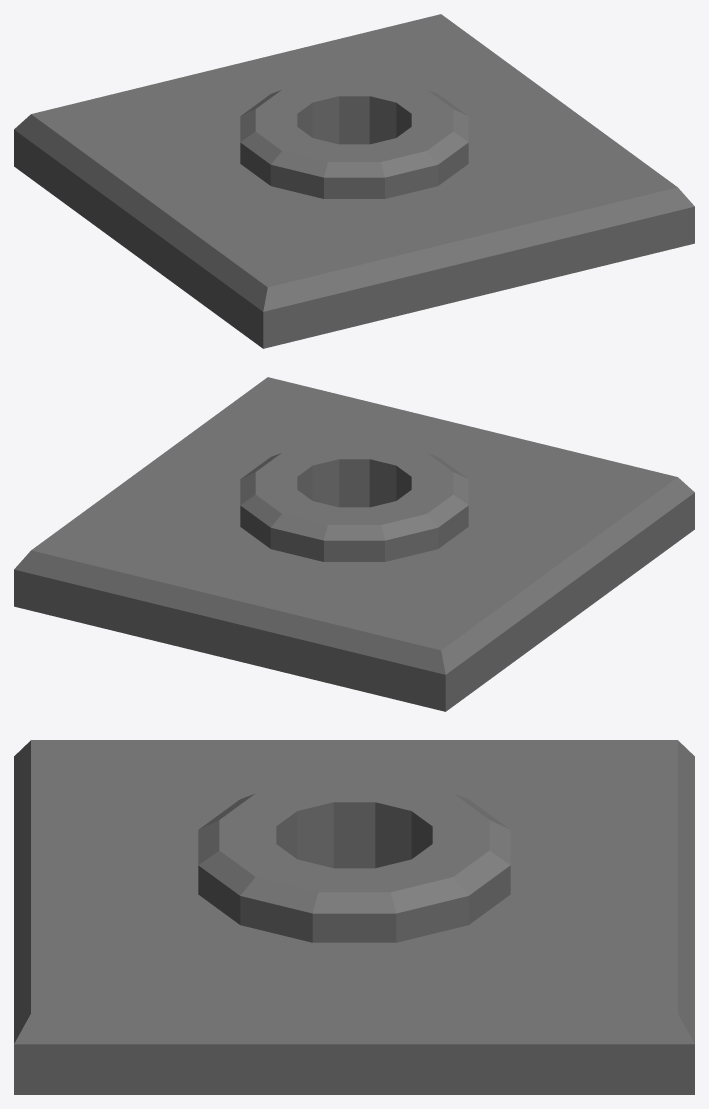
The model's file is SingleSpikeStoneTrap_2.fbx.
3 renders of one model, top to bottom at view 1: azimuth 30°, elevation 25°; view 2: azimuth 150°, elevation 25°; view 3: azimuth 270°, elevation 25°, orthographic. The views are drawn at different scales.
Visible parts, largest first — view 1: SingleSpikeStoneTrap_2; view 2: SingleSpikeStoneTrap_2; view 3: SingleSpikeStoneTrap_2.
Boxes of the visible parts, x1=… form: SingleSpikeStoneTrap_2: x1=14, y1=14, x2=694, y2=348; SingleSpikeStoneTrap_2: x1=14, y1=377, x2=694, y2=711; SingleSpikeStoneTrap_2: x1=14, y1=740, x2=694, y2=1094.
Size of the model in its own units: 40.12 by 7.52 by 40.12.
